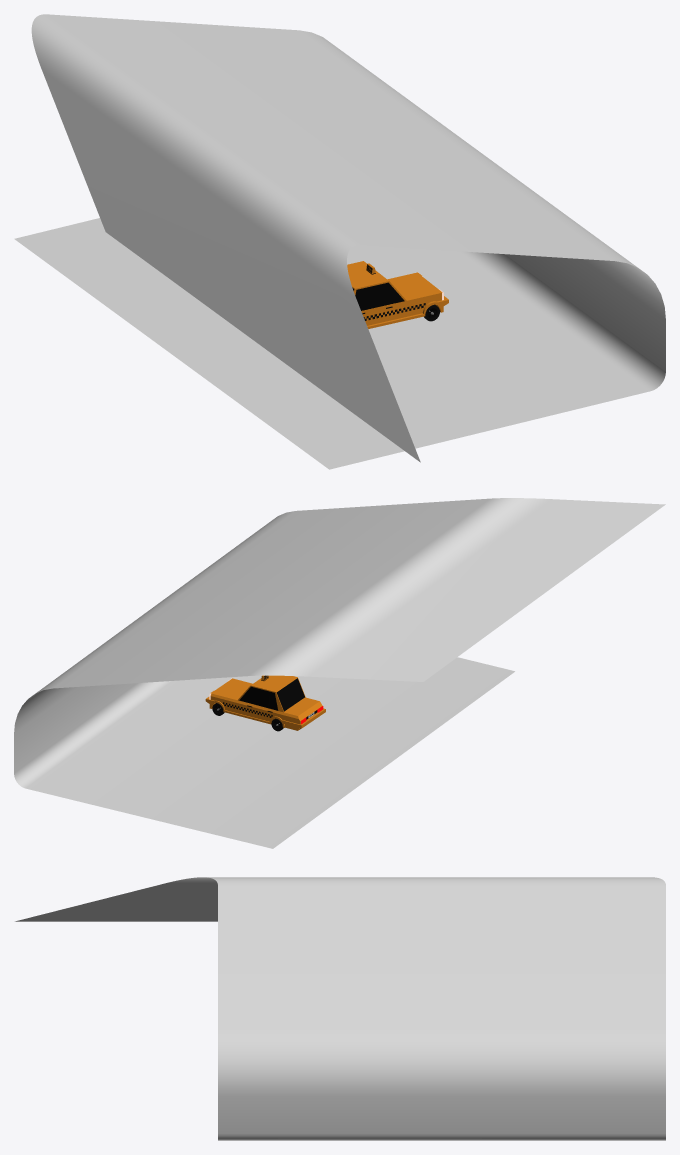
The model's file is toy8.fbx.
3 views of the same model, one above another, from view 1: azimuth 30°, elevation 25°; view 2: azimuth 150°, elevation 25°; view 3: azimuth 270°, elevation 25° (orthographic). The views are drawn at different scales.
Parts seen in each view (by area): view 1: Line002, Line004, Shape002; view 2: Line002, Line004, Shape001, Shape003; view 3: Line002.
Part boxes in pixels (box(x1,y1,x2,y2)): Line002: box(14, 14, 665, 469); Line004: box(347, 261, 448, 328); Shape002: box(355, 282, 404, 310); Line002: box(14, 498, 665, 848); Line004: box(205, 675, 325, 730); Shape001: box(239, 686, 278, 710); Shape003: box(276, 678, 304, 711); Line002: box(15, 877, 665, 1140).
Size of the model in its own units: 560 by 301 by 1146.
